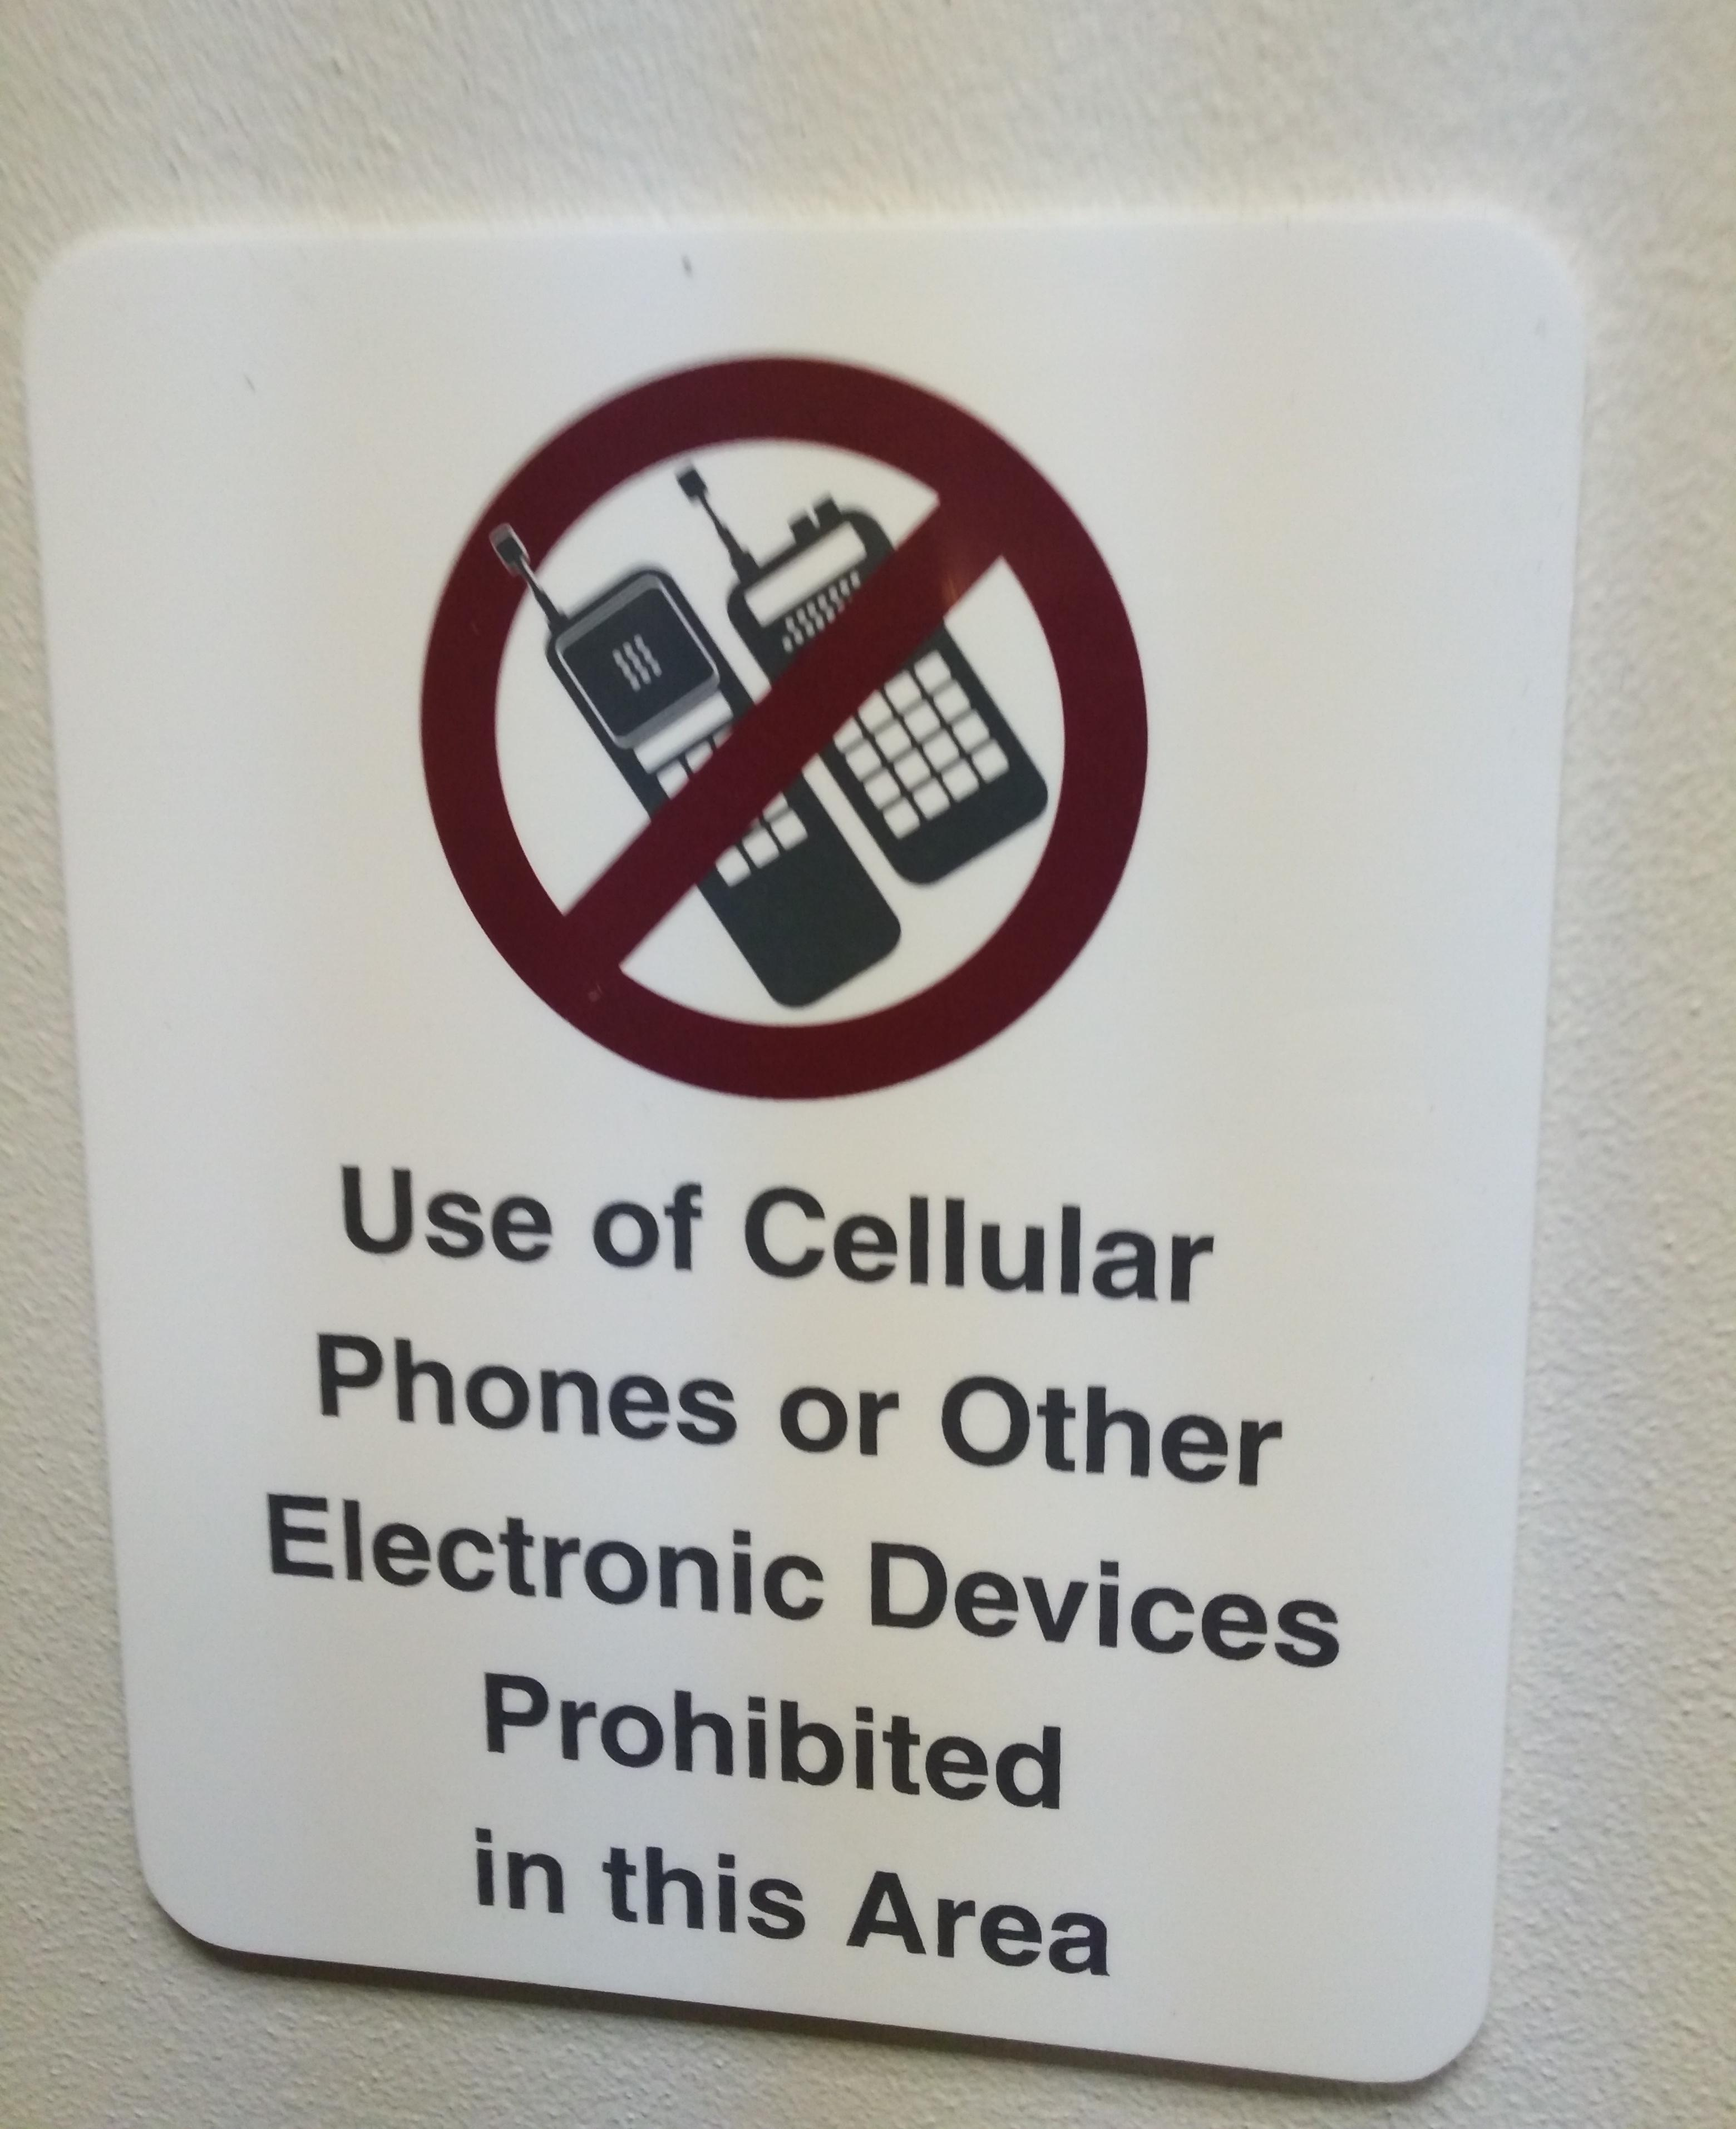sign: (28, 210, 1577, 2079)
